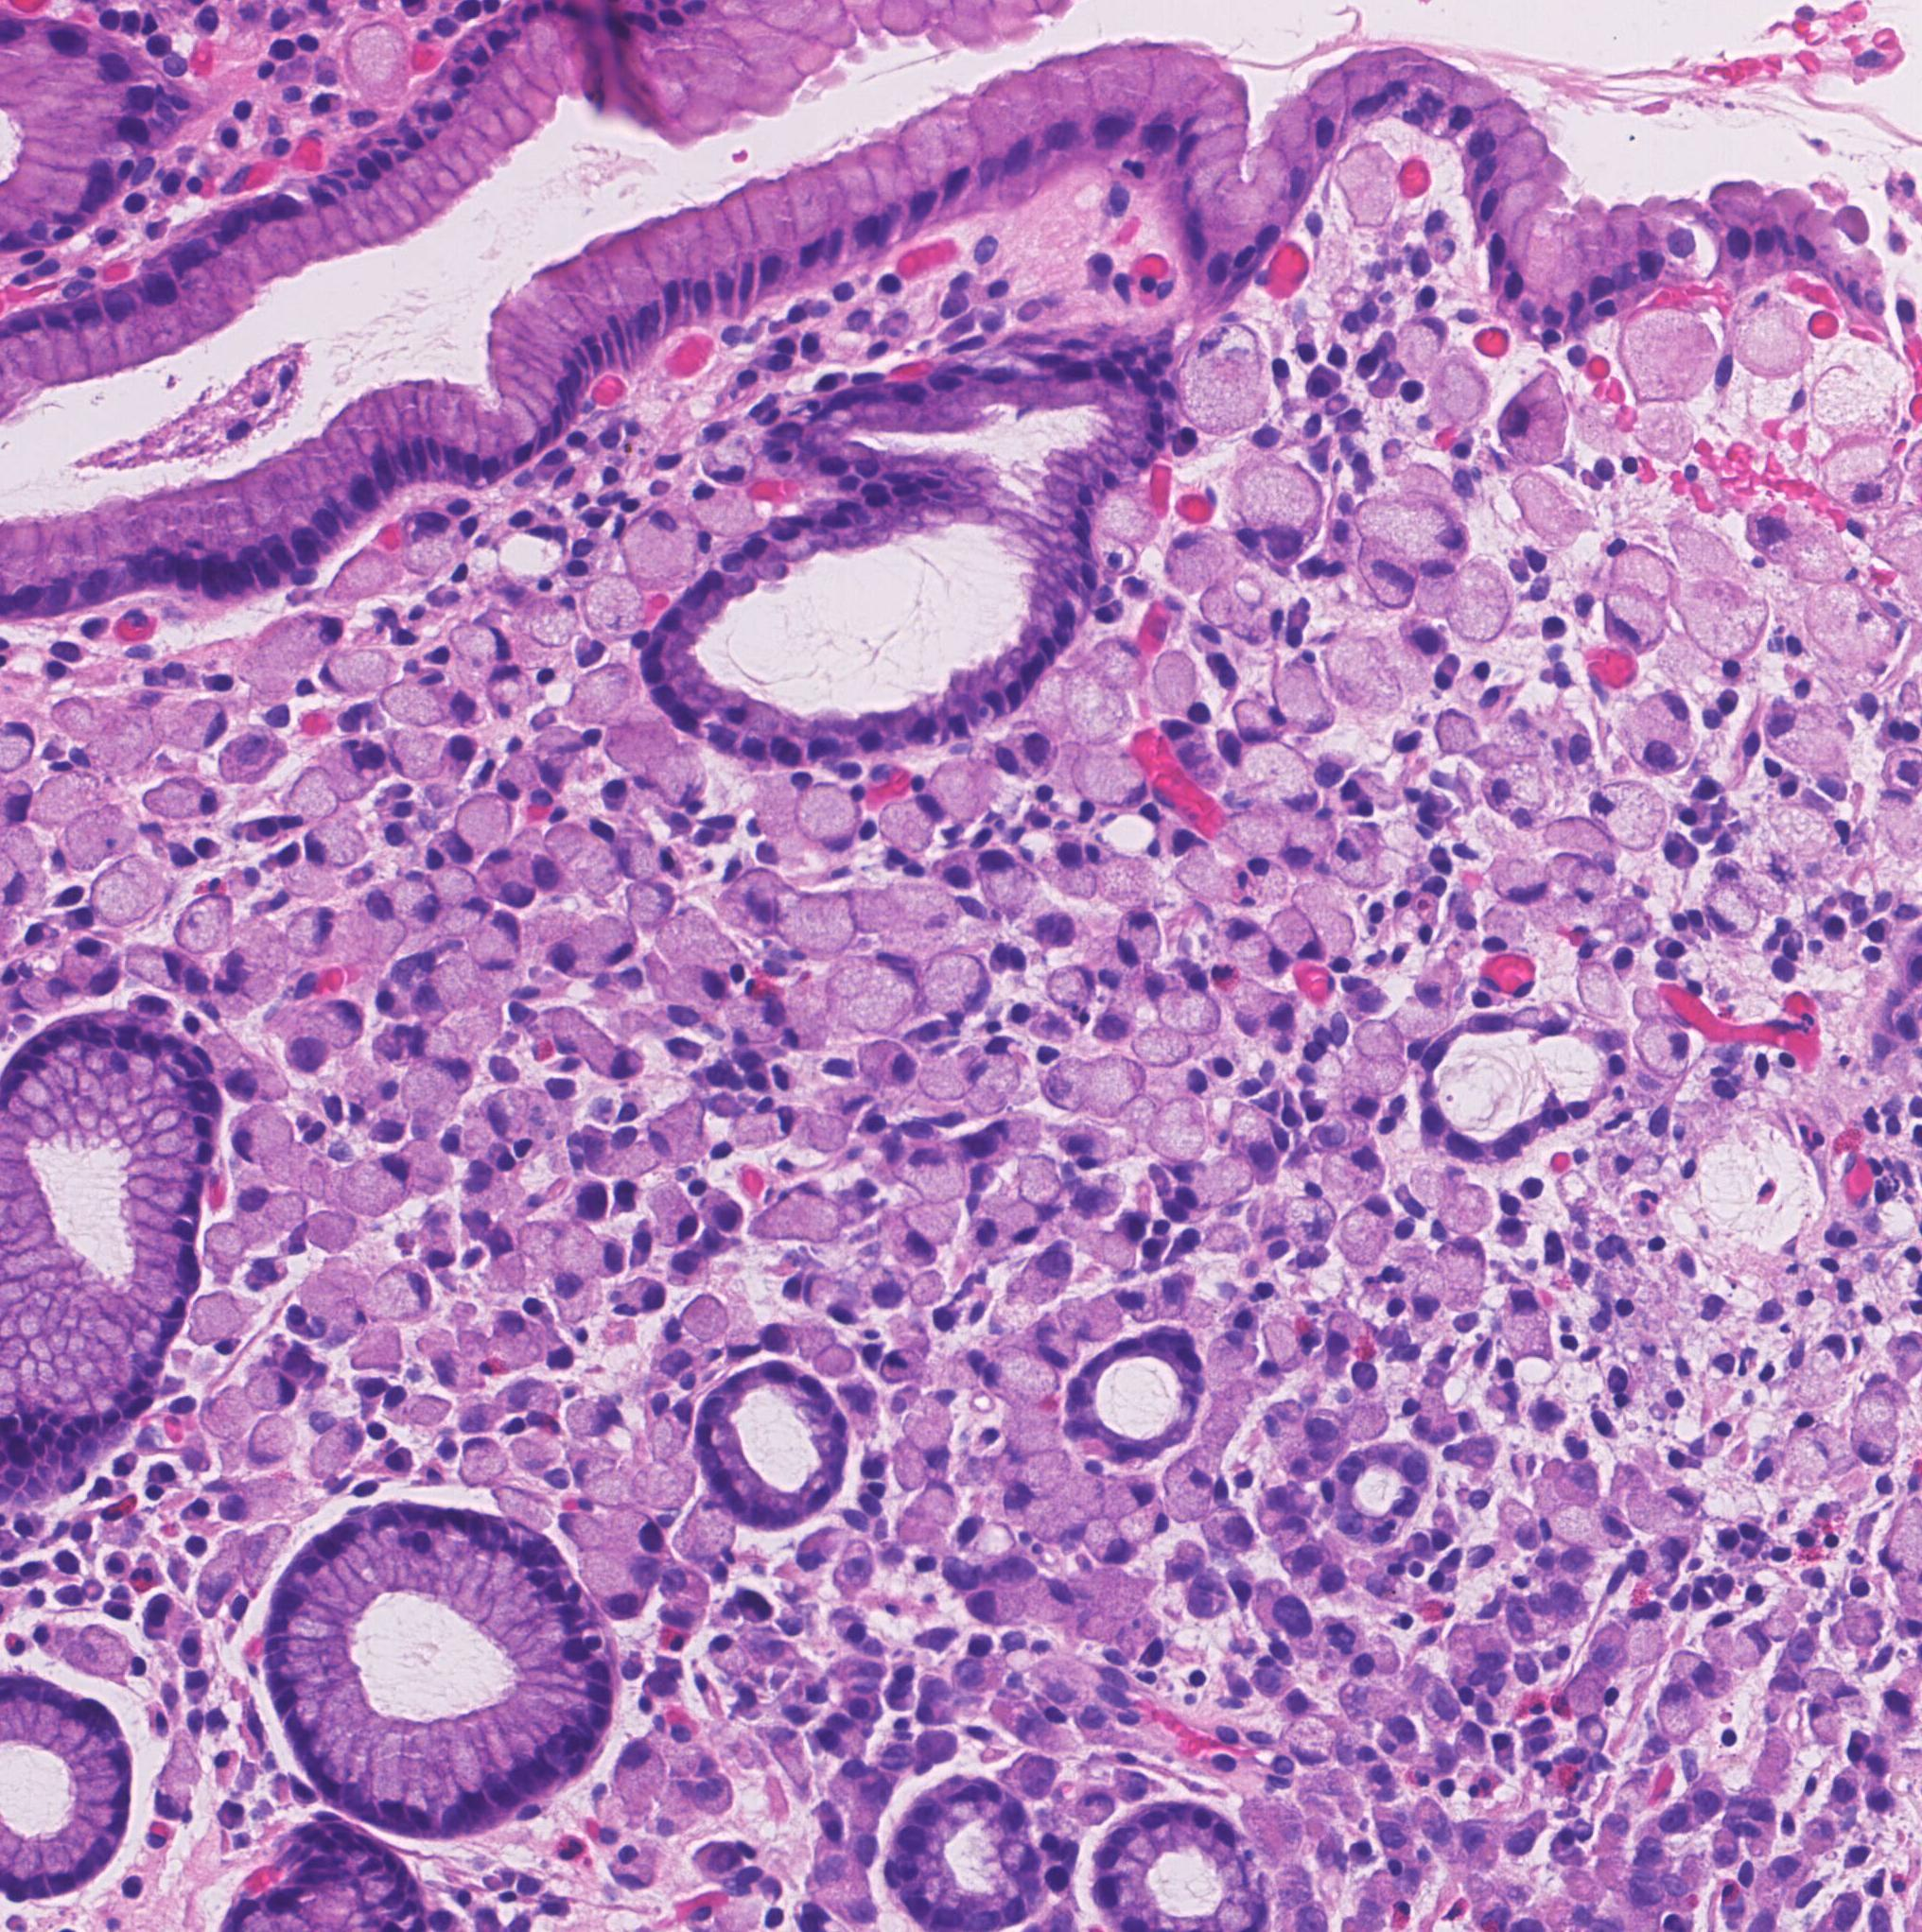ring_cell_cancer: (1234, 465, 1324, 560), (1806, 579, 1896, 665), (1357, 494, 1466, 563), (1744, 505, 1848, 575), (1676, 579, 1767, 658), (623, 503, 704, 589), (831, 954, 921, 1028), (866, 885, 957, 955), (1327, 633, 1406, 711), (1387, 957, 1461, 1038), (252, 611, 348, 672), (776, 885, 857, 957), (1093, 845, 1170, 918), (392, 501, 463, 579), (95, 857, 172, 927), (1508, 480, 1591, 545), (1589, 781, 1663, 852), (921, 943, 989, 1017), (1823, 450, 1908, 510), (396, 1054, 473, 1119), (338, 1153, 415, 1218), (1068, 746, 1149, 808), (1276, 656, 1338, 737), (715, 866, 783, 938), (1767, 706, 1845, 769), (74, 713, 153, 774), (373, 679, 472, 728), (755, 1189, 847, 1242), (1445, 572, 1512, 644), (1070, 663, 1135, 737), (583, 1552, 653, 1619), (576, 1121, 657, 1179), (1144, 977, 1221, 1036), (1169, 531, 1246, 591), (968, 1036, 1026, 1116), (1177, 853, 1257, 911), (931, 755, 996, 825), (1540, 813, 1621, 869), (1850, 1383, 1903, 1469), (1355, 538, 1420, 607), (1158, 1446, 1218, 1520), (773, 978, 833, 1052), (1619, 1483, 1700, 1538), (1500, 1283, 1556, 1360), (1602, 584, 1667, 651), (319, 741, 389, 802), (611, 718, 672, 788), (896, 1142, 966, 1204), (686, 482, 766, 537), (1621, 711, 1693, 771), (1230, 1100, 1280, 1186), (231, 1107, 299, 1168), (1607, 549, 1676, 611), (1177, 1154, 1255, 1209), (1248, 746, 1318, 806), (299, 808, 371, 866), (65, 806, 134, 866), (1551, 1499, 1633, 1548), (563, 662, 635, 718), (1153, 1093, 1209, 1165), (799, 788, 859, 855), (259, 1144, 327, 1202), (229, 1182, 285, 1253), (987, 1351, 1060, 1406), (614, 1738, 669, 1811), (750, 767, 804, 839), (1484, 762, 1558, 815), (977, 850, 1037, 915), (472, 848, 539, 906), (1339, 1195, 1397, 1262), (576, 581, 646, 635), (195, 1534, 245, 1612), (1019, 1239, 1072, 1311), (452, 795, 514, 857), (1489, 845, 1552, 904), (327, 547, 396, 602), (306, 1420, 366, 1482), (143, 772, 220, 820), (646, 1107, 709, 1165), (1322, 1144, 1385, 1202), (1327, 825, 1385, 889), (1438, 1235, 1487, 1309), (1663, 1645, 1732, 1698), (319, 649, 394, 697), (877, 795, 938, 853), (375, 1262, 433, 1323), (486, 1311, 547, 1369), (679, 1496, 736, 1559), (653, 746, 706, 813), (396, 1135, 454, 1195), (283, 767, 340, 829), (421, 1330, 482, 1387), (1005, 1390, 1067, 1446), (352, 892, 407, 955), (121, 941, 187, 994), (449, 619, 516, 670), (164, 699, 231, 750), (1060, 1121, 1137, 1165), (1014, 1154, 1065, 1219), (1632, 690, 1688, 748), (382, 723, 442, 778), (718, 1292, 766, 1360), (908, 1395, 956, 1464), (285, 1214, 359, 1258), (1042, 839, 1095, 901), (649, 1181, 701, 1244), (664, 961, 729, 1010), (852, 1038, 917, 1087), (553, 1228, 602, 1293), (572, 1452, 637, 1501), (818, 1841, 868, 1906), (1265, 904, 1322, 961), (1635, 1021, 1691, 1077), (928, 1047, 987, 1100), (1086, 637, 1148, 688), (634, 1464, 697, 1513), (222, 1482, 296, 1524), (723, 994, 789, 1042), (387, 871, 440, 929), (468, 911, 521, 970), (456, 1439, 514, 1492), (1287, 811, 1338, 871), (1023, 1501, 1091, 1545), (1706, 885, 1762, 938), (1281, 1197, 1338, 1249), (310, 999, 370, 1049), (1413, 553, 1461, 614), (229, 940, 276, 1001), (282, 857, 345, 903), (602, 1510, 665, 1555), (282, 906, 336, 959), (1089, 1054, 1142, 1109), (348, 1056, 401, 1110), (882, 1218, 938, 1269), (482, 663, 539, 714), (1017, 1575, 1075, 1624), (1399, 1256, 1449, 1314), (1146, 1063, 1216, 1103), (542, 927, 602, 975), (1625, 1601, 1672, 1661), (491, 748, 544, 801), (991, 1464, 1044, 1517), (651, 1397, 695, 1460), (1044, 961, 1095, 1015), (201, 1392, 255, 1443), (621, 876, 678, 926), (1016, 1448, 1072, 1497), (188, 1293, 245, 1343), (525, 602, 583, 649), (1656, 1682, 1704, 1740), (954, 1517, 1019, 1559), (854, 1262, 913, 1307), (1260, 1320, 1311, 1372), (250, 1413, 299, 1467), (1207, 1330, 1257, 1385), (1440, 1182, 1494, 1232), (1033, 1313, 1081, 1369), (1236, 985, 1294, 1031), (966, 1585, 1028, 1628), (1130, 1024, 1192, 1066), (577, 841, 625, 896), (591, 913, 639, 968), (1045, 1057, 1093, 1112), (245, 1527, 290, 1584), (1102, 1475, 1160, 1519), (760, 827, 818, 871), (239, 1372, 299, 1415), (1343, 1057, 1385, 1117), (551, 815, 600, 866), (1068, 1299, 1123, 1344), (225, 1066, 296, 1101), (1287, 1716, 1334, 1767), (894, 1432, 935, 1492), (1081, 1517, 1130, 1564), (915, 1480, 961, 1531), (1197, 1504, 1251, 1547), (952, 1334, 993, 1390), (1119, 906, 1160, 962), (996, 1198, 1044, 1246), (1121, 1499, 1169, 1547), (554, 1508, 613, 1547), (257, 1191, 308, 1235), (616, 825, 657, 880), (475, 957, 521, 1005), (1494, 711, 1542, 757), (62, 940, 111, 984), (1244, 857, 1292, 901), (1566, 860, 1616, 903), (426, 864, 479, 903), (1091, 941, 1133, 989), (1223, 920, 1274, 959), (567, 1397, 611, 1441), (1324, 1311, 1364, 1358), (880, 1350, 935, 1385), (1230, 704, 1280, 741), (209, 975, 252, 1017), (1806, 1698, 1843, 1745), (706, 456, 757, 489), (1734, 1622, 1771, 1665), (449, 901, 488, 933), (1248, 947, 1287, 978)
